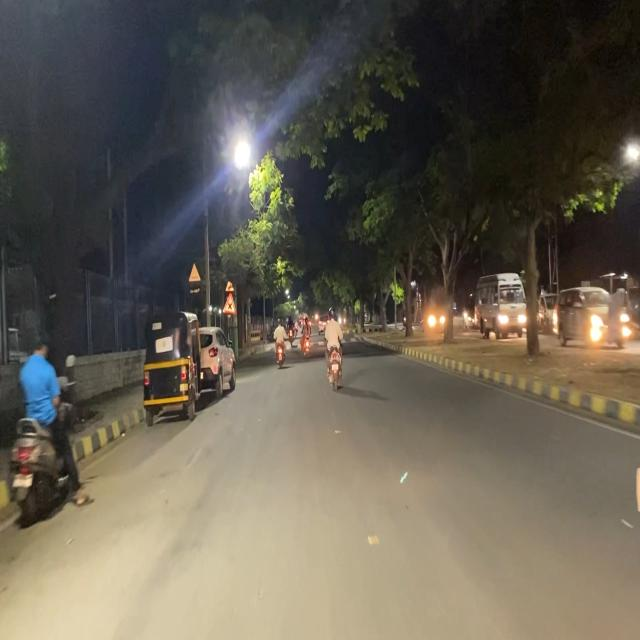bien_cam: (188, 262, 201, 284), (223, 293, 236, 315)
